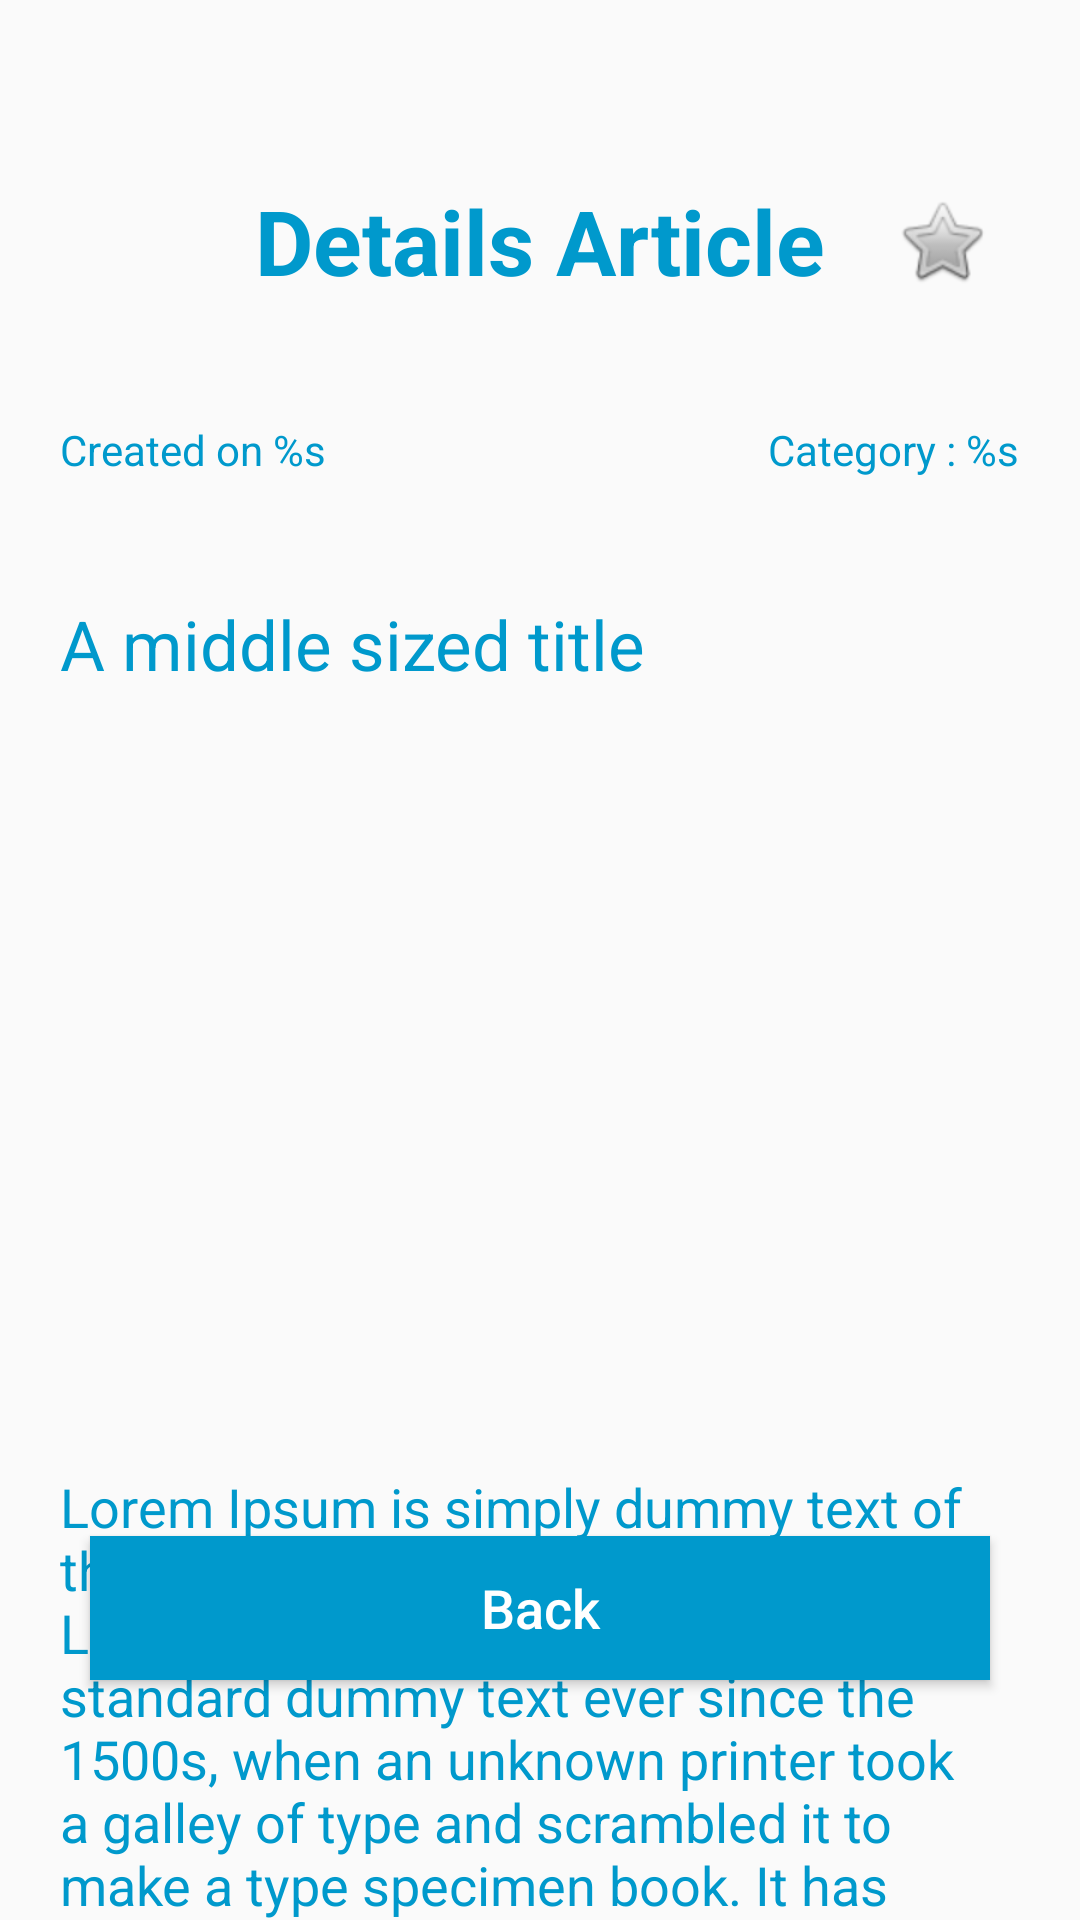

Point at icon controls on the screen. Image size 1080 × 1920, points as (x=x, y=y).
star: (x=943, y=242)
